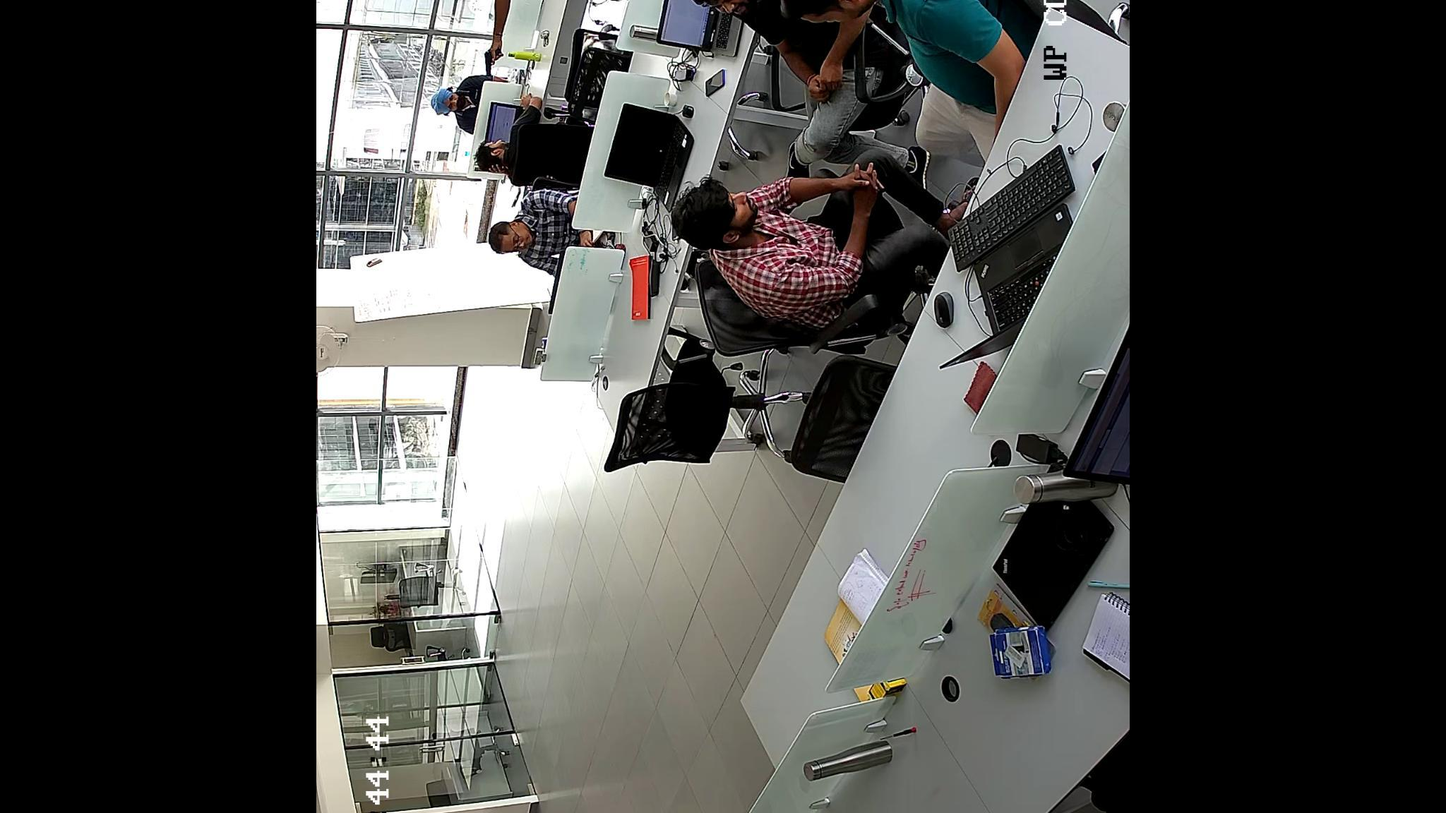gun: (485, 49, 502, 75)
